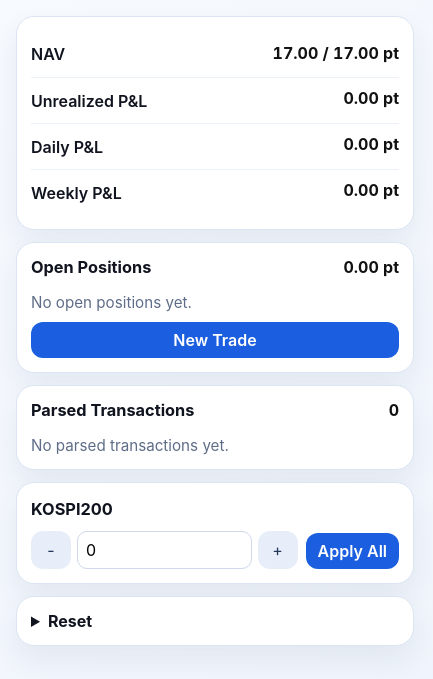
Scenario: App dashboard › nav value toggles points and KRW on tap
Click the button "17.00 / 17.00 pt" at [315, 54], box [231,44,399,64]
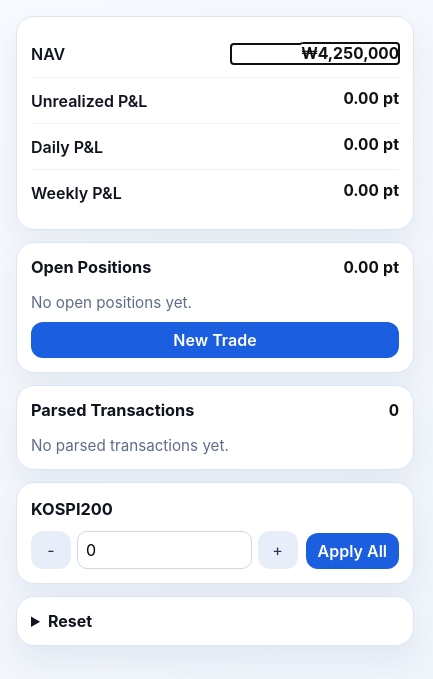
Result: the button "₩4,250,000" is shown at [231,44,399,64]
